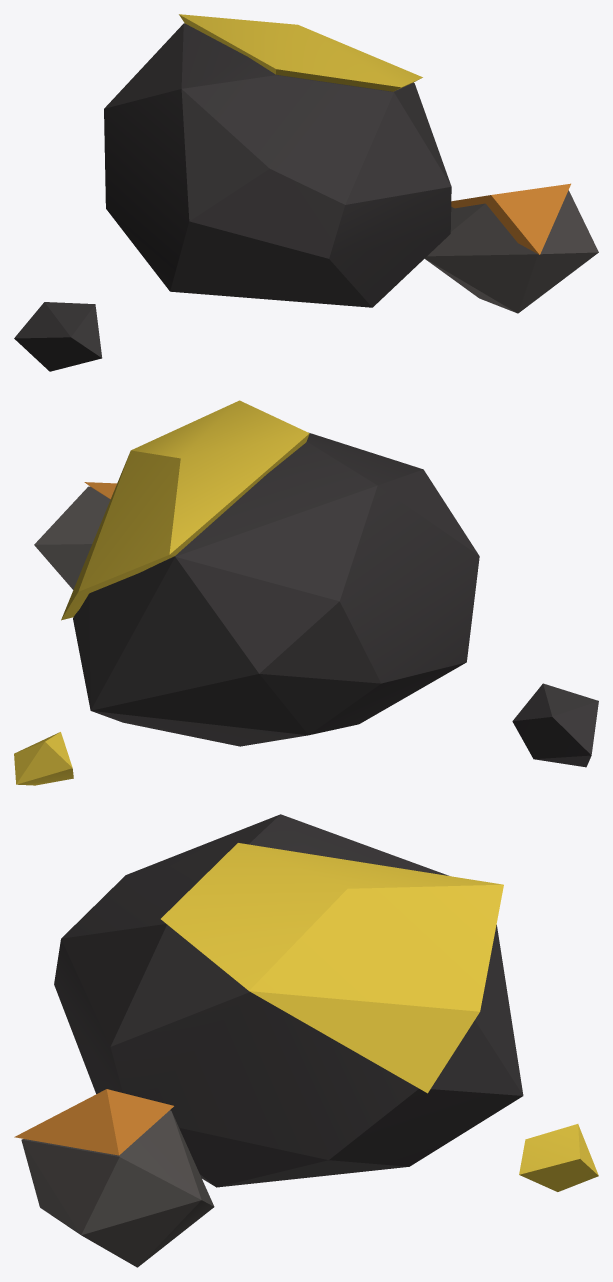
The model's file is sulphur_rock.glb.
3 renders of one model, top to bottom at view 1: azimuth 30°, elevation 25°; view 2: azimuth 150°, elevation 25°; view 3: azimuth 270°, elevation 25°, orthographic. The views are drawn at different scales.
Parts seen in each view (by area): view 1: sulphur_rock; view 2: sulphur_rock; view 3: sulphur_rock.
Part boxes in pixels (box(x1,y1,x2,y2)): sulphur_rock: box(14, 14, 598, 371); sulphur_rock: box(14, 400, 598, 785); sulphur_rock: box(14, 814, 598, 1267).
Size of the model in its own units: 1.35 by 0.6208 by 1.1.
